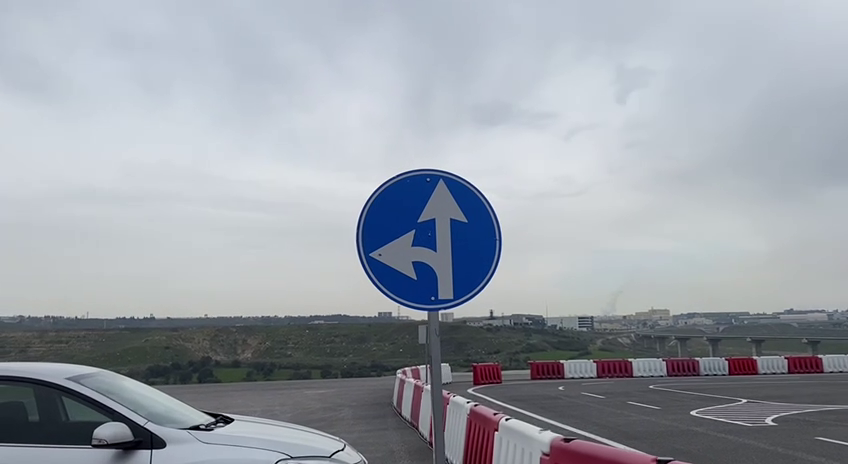forwardAndLeft: (352, 165, 507, 315)
